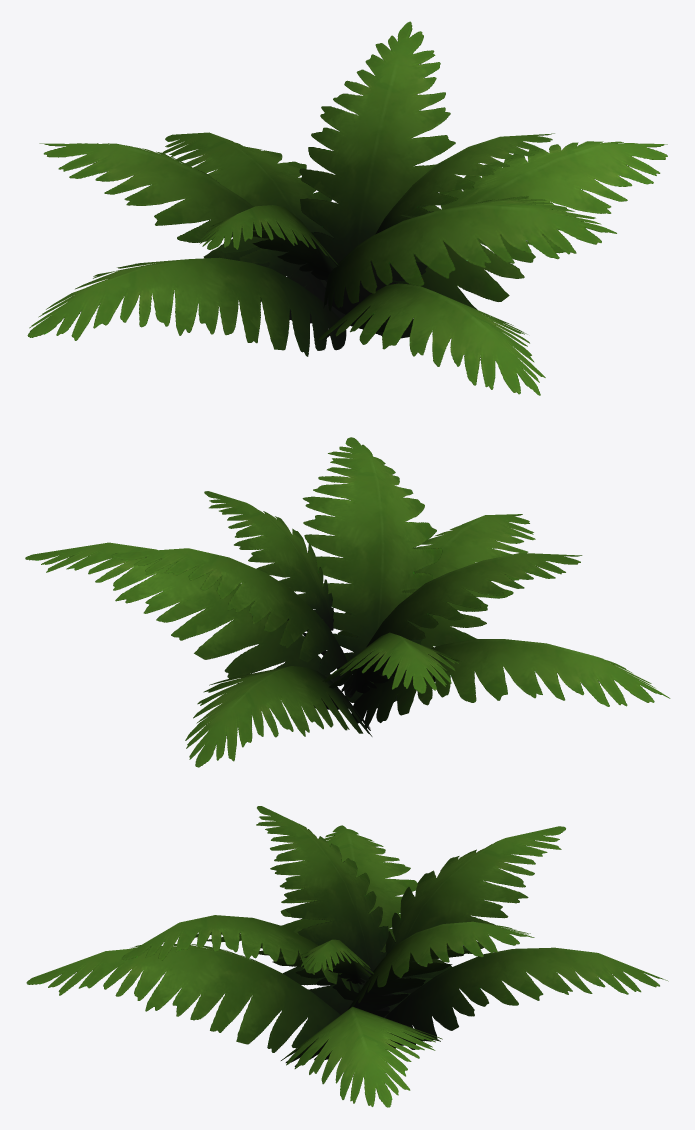
File: Fern.glb
3 views of the same model, one above another, from view 1: azimuth 30°, elevation 25°; view 2: azimuth 150°, elevation 25°; view 3: azimuth 270°, elevation 25° (orthographic). The views are drawn at different scales.
Parts seen in each view (by area): view 1: Fern_1; view 2: Fern_1; view 3: Fern_1.
Boxes of the visible parts, left/top/right/bottom form: Fern_1: left=27, top=21, right=667, bottom=395; Fern_1: left=25, top=437, right=670, bottom=767; Fern_1: left=26, top=806, right=668, bottom=1107.
Size of the model in its own units: 2.83 by 0.8402 by 2.65.
Materials: 1 (1 with a texture image).
